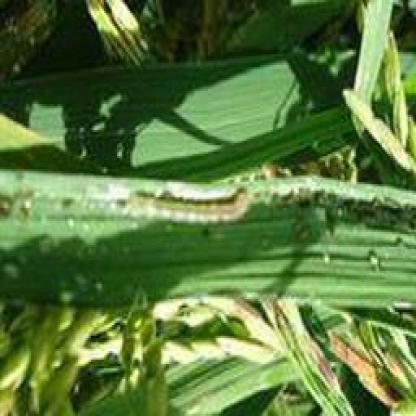leaf-folder: (104, 182, 260, 238)
